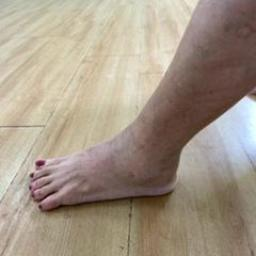Lateral View -Left Foot-: (12, 110, 206, 224)
